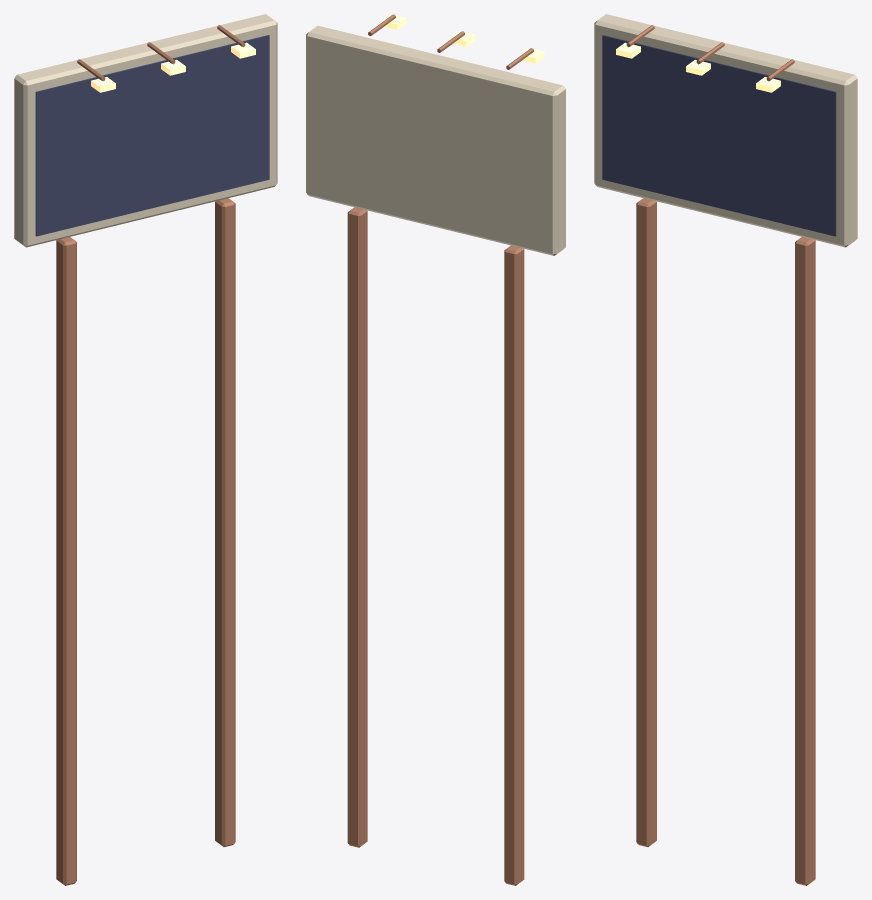
The model's file is sf4_billboard_3.glb.
3 renders of one model, left to right at view 1: azimuth 30°, elevation 25°; view 2: azimuth 150°, elevation 25°; view 3: azimuth 330°, elevation 25°, orthographic.
Visible parts, largest first — view 1: sf4_billboard_3__sf3-midnight-indigo, sf4_billboard_3__sf3-burnished-copper, sf4_billboard_3__sf3-warm-ivory, sf4_billboard_3__sf3-warm-window; view 2: sf4_billboard_3__sf3-warm-ivory, sf4_billboard_3__sf3-burnished-copper, sf4_billboard_3__sf3-warm-window; view 3: sf4_billboard_3__sf3-midnight-indigo, sf4_billboard_3__sf3-burnished-copper, sf4_billboard_3__sf3-warm-ivory, sf4_billboard_3__sf3-warm-window.
Boxes of the visible parts, x1,y1,x2,y2 form: sf4_billboard_3__sf3-midnight-indigo: [35, 35, 269, 236]; sf4_billboard_3__sf3-burnished-copper: [56, 25, 245, 885]; sf4_billboard_3__sf3-warm-ivory: [14, 14, 277, 247]; sf4_billboard_3__sf3-warm-window: [91, 42, 255, 92]; sf4_billboard_3__sf3-warm-ivory: [306, 25, 565, 255]; sf4_billboard_3__sf3-burnished-copper: [347, 14, 533, 885]; sf4_billboard_3__sf3-warm-window: [381, 14, 544, 63]; sf4_billboard_3__sf3-midnight-indigo: [602, 35, 836, 236]; sf4_billboard_3__sf3-burnished-copper: [626, 25, 815, 885]; sf4_billboard_3__sf3-warm-ivory: [594, 14, 857, 247]; sf4_billboard_3__sf3-warm-window: [616, 42, 780, 92].
Size of the model in its own units: 4.8 by 14.84 by 1.25.
